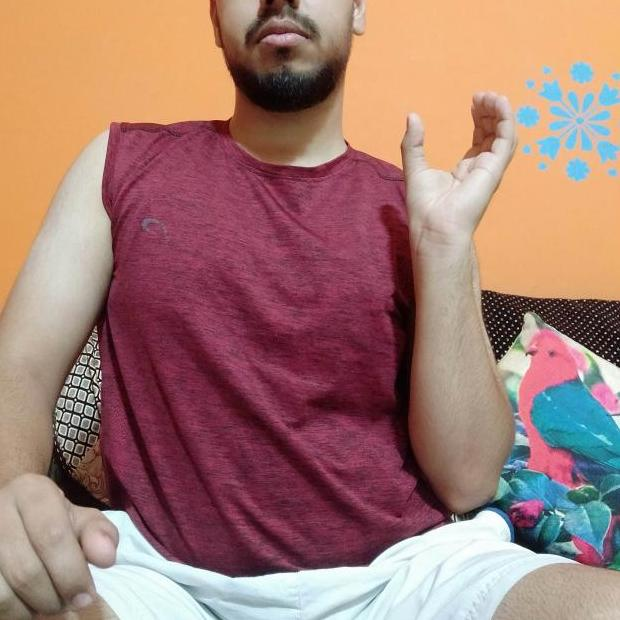T: (385, 86, 525, 263)
